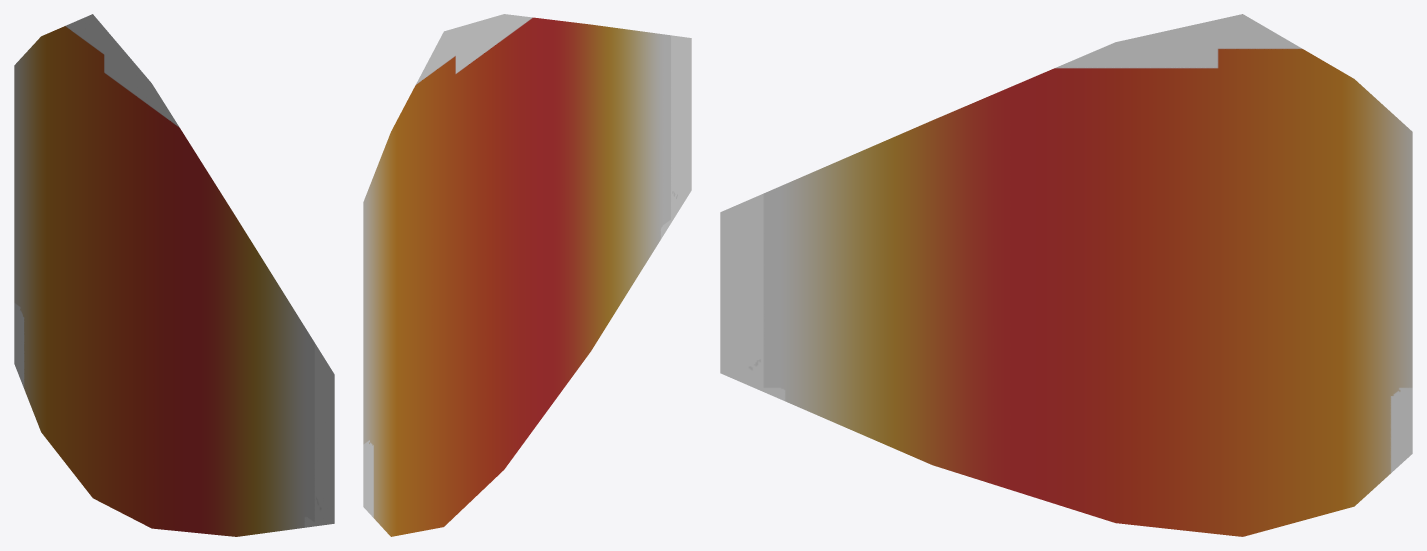
The model's file is Flame_3.fbx.
3 views of the same model, side by side, from view 1: azimuth 30°, elevation 25°; view 2: azimuth 150°, elevation 25°; view 3: azimuth 270°, elevation 25° (orthographic). The views are drawn at different scales.
Visible parts, largest first — view 1: pCube3; view 2: pCube3; view 3: pCube3.
Boxes of the visible parts, box(x1,y1,x2,y2) form: pCube3: box(14, 14, 334, 536); pCube3: box(363, 14, 691, 536); pCube3: box(720, 14, 1412, 536).
Size of the model in its own units: 8.23e-14 by 176 by 211.
1 material, 1 textured.
